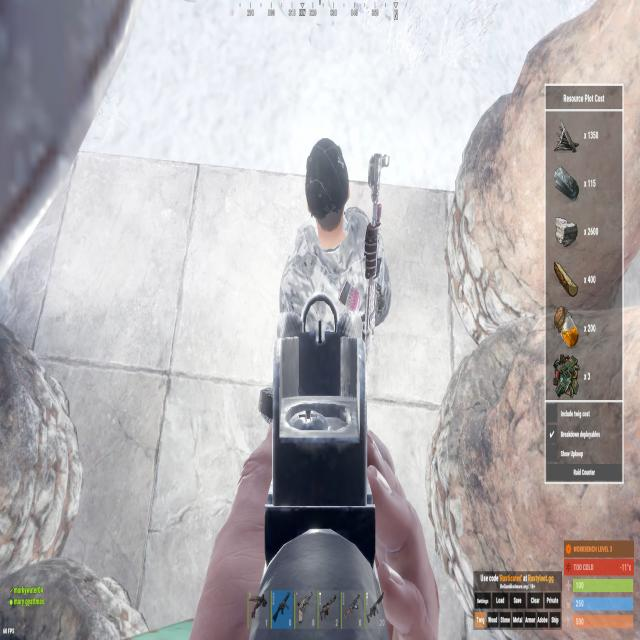Player: (272, 131, 394, 376)
